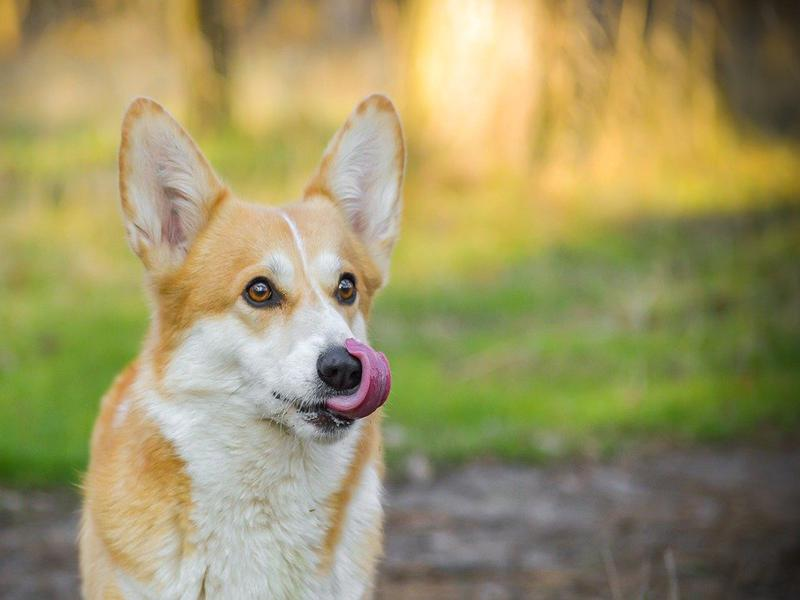corgi: (120, 94, 413, 444)
